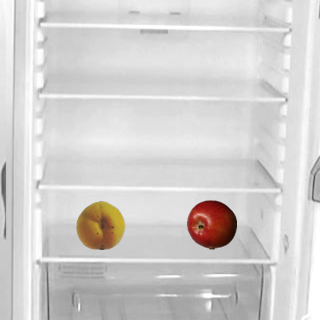Apple Braeburn: (186, 199, 236, 249)
Peach 2: (75, 199, 125, 249)
